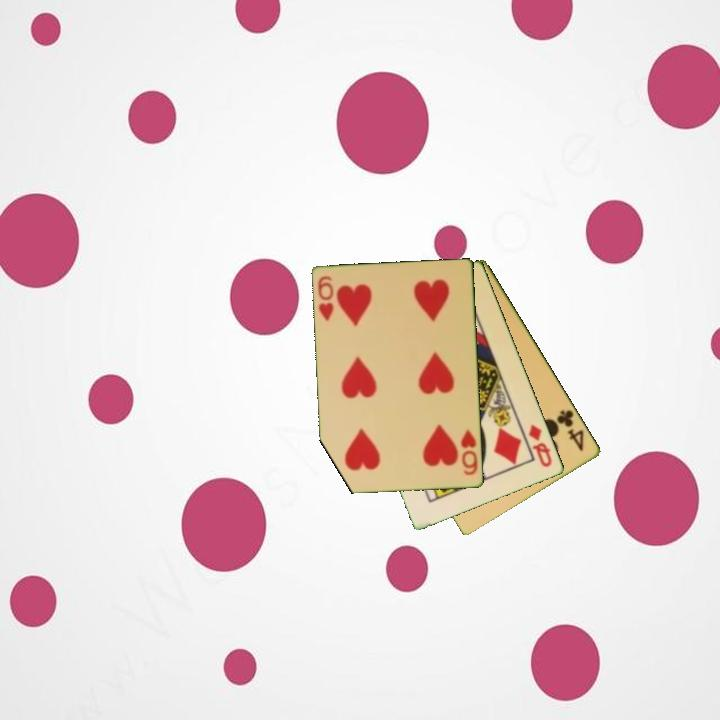4c: (553, 406, 587, 454)
6h: (458, 426, 481, 478), (315, 272, 337, 324)
Qd: (525, 421, 555, 470)
